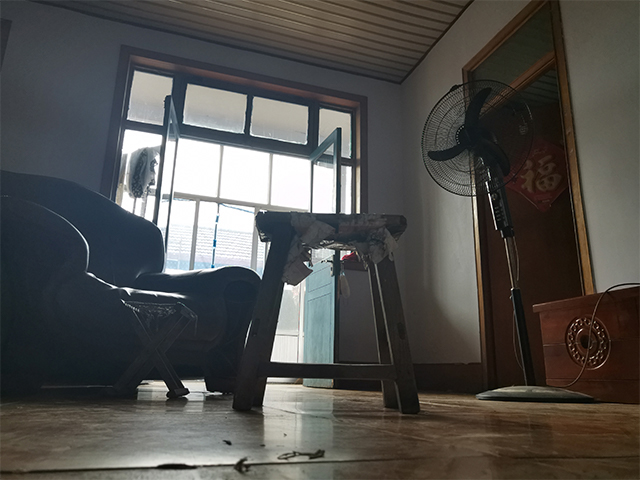cabinet: (529, 283, 640, 405)
sofa: (1, 169, 265, 399)
stool: (230, 210, 424, 416), (100, 295, 200, 401)
